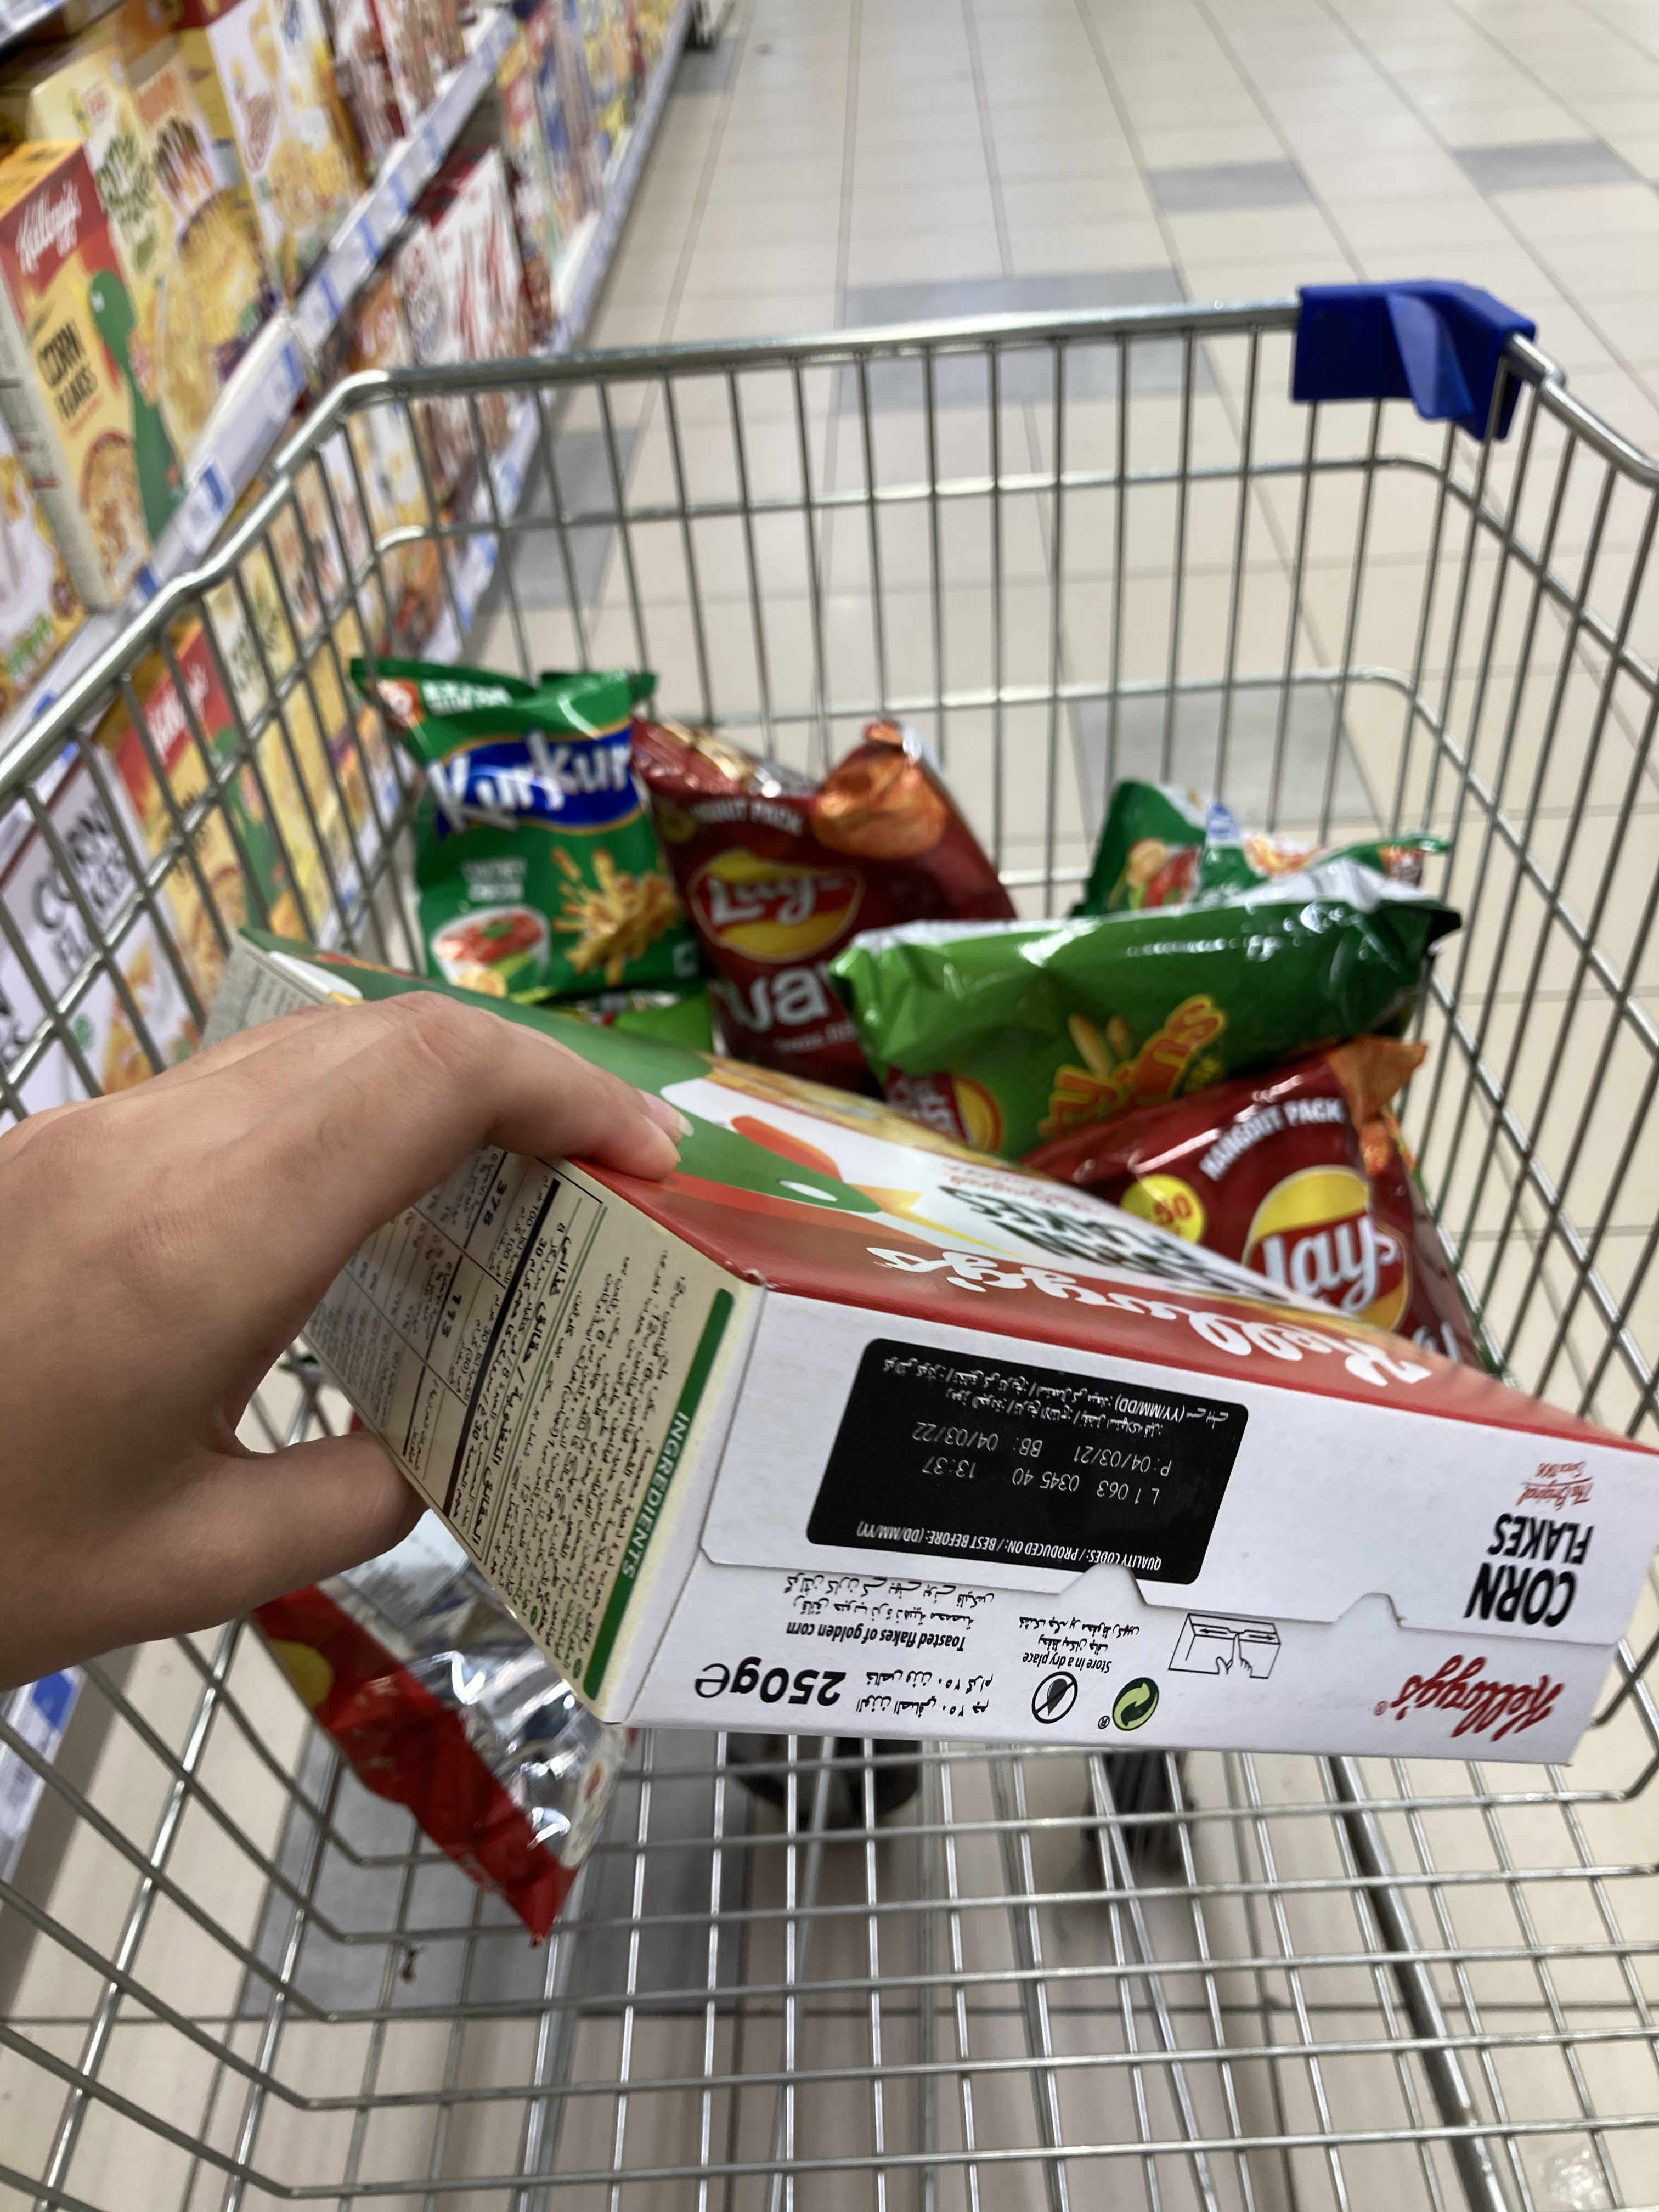Kellogg's Corn Flakes: (190, 911, 1657, 1768)
